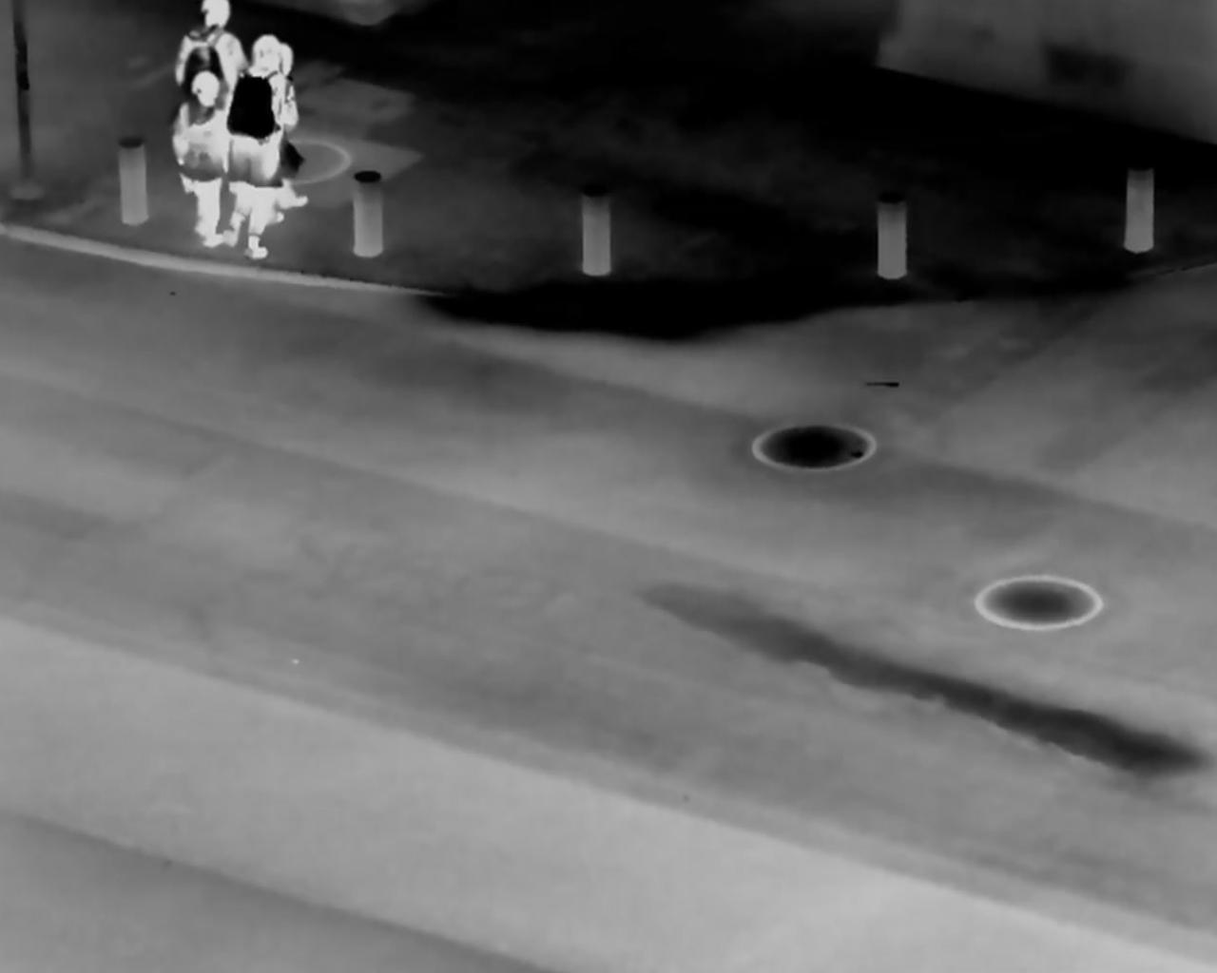person: (234, 31, 285, 261), (168, 76, 229, 247)
